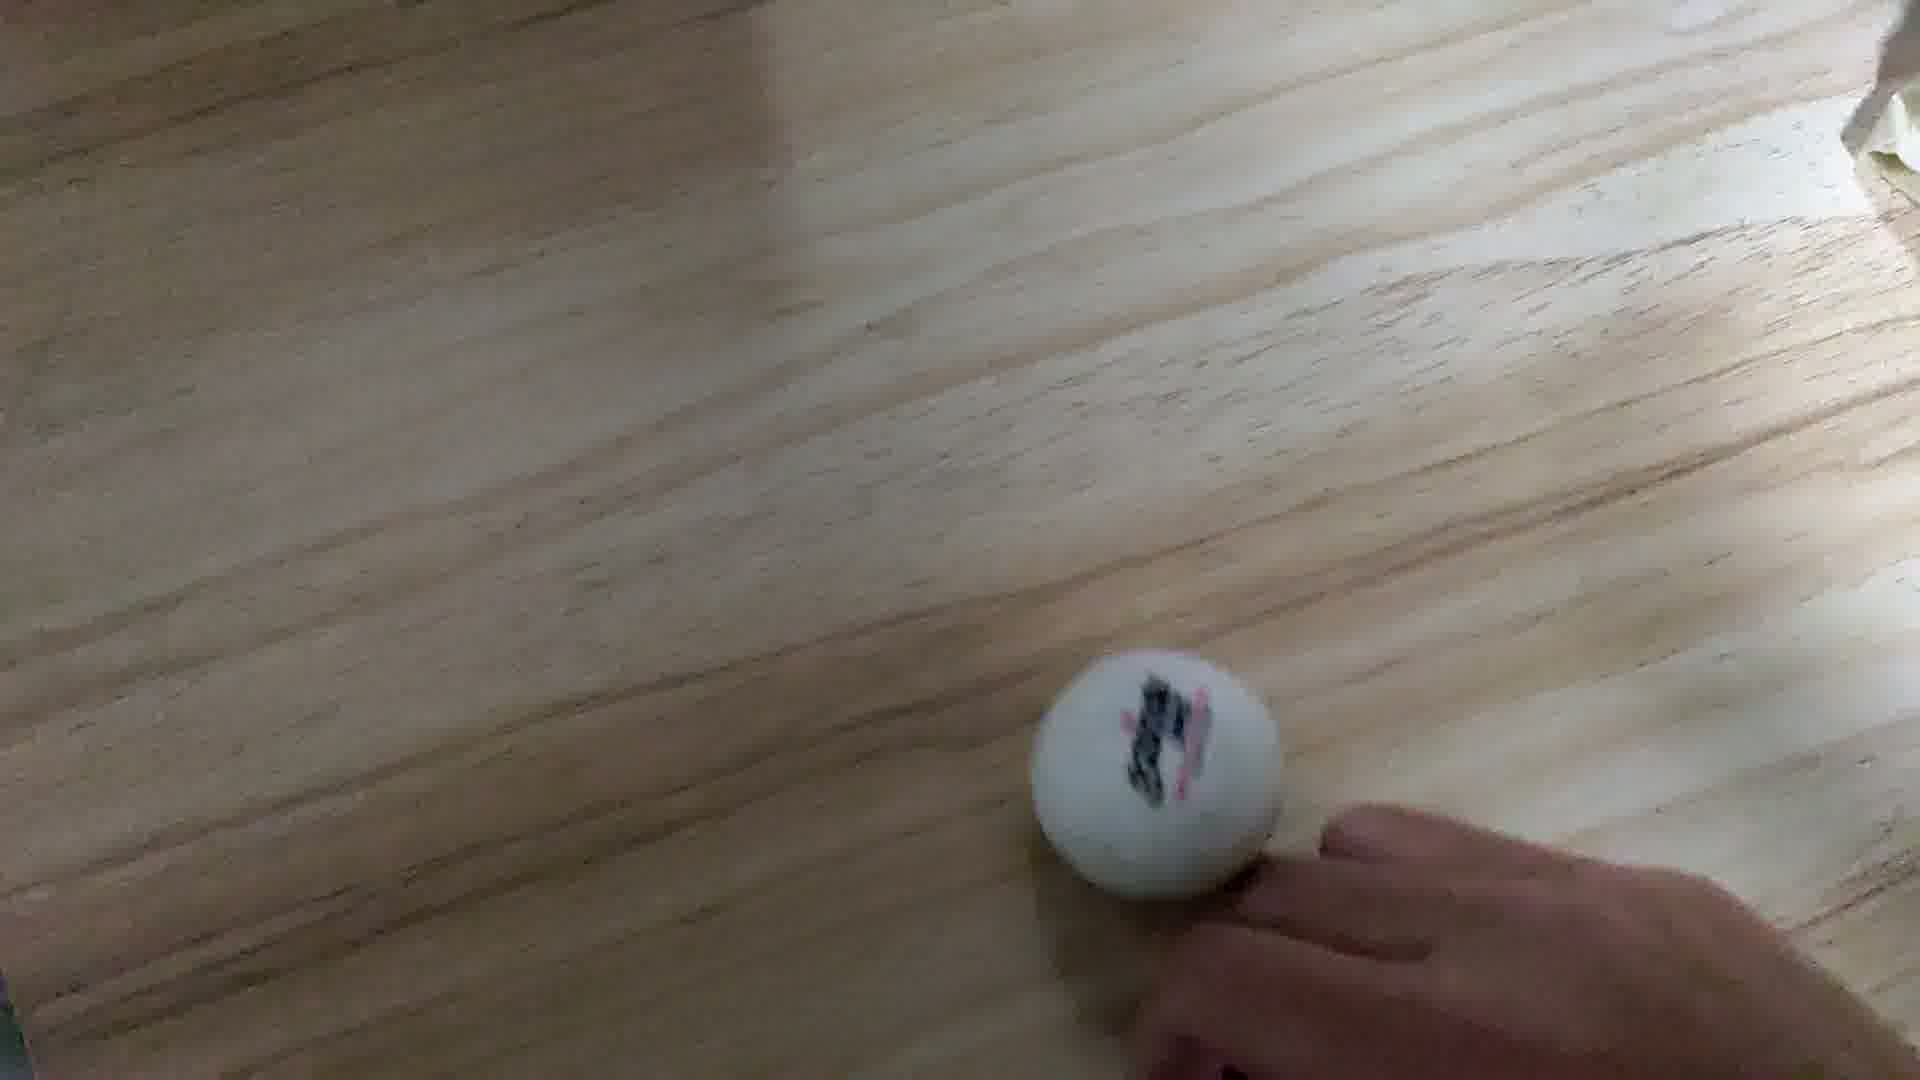Ball: (1025, 647, 1291, 906)
